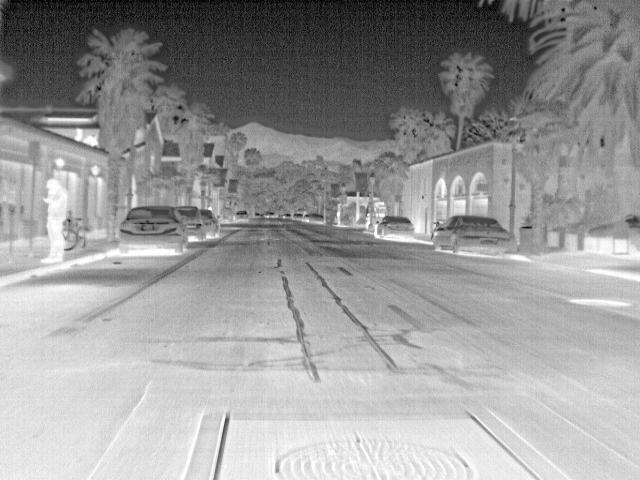car: (432, 214, 514, 258), (116, 205, 187, 254), (373, 215, 416, 242), (176, 206, 208, 242), (201, 208, 222, 239), (234, 209, 251, 224), (309, 212, 325, 226)
person: (35, 176, 70, 266)
